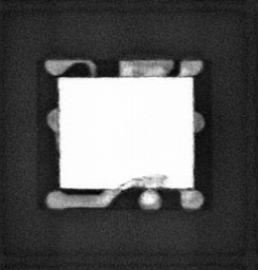DIE_INK: (121, 171, 167, 186)
